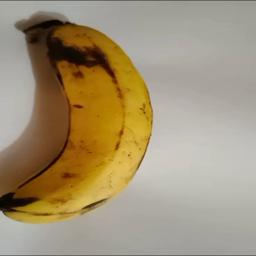Banana Semifresh: (0, 19, 155, 226)
